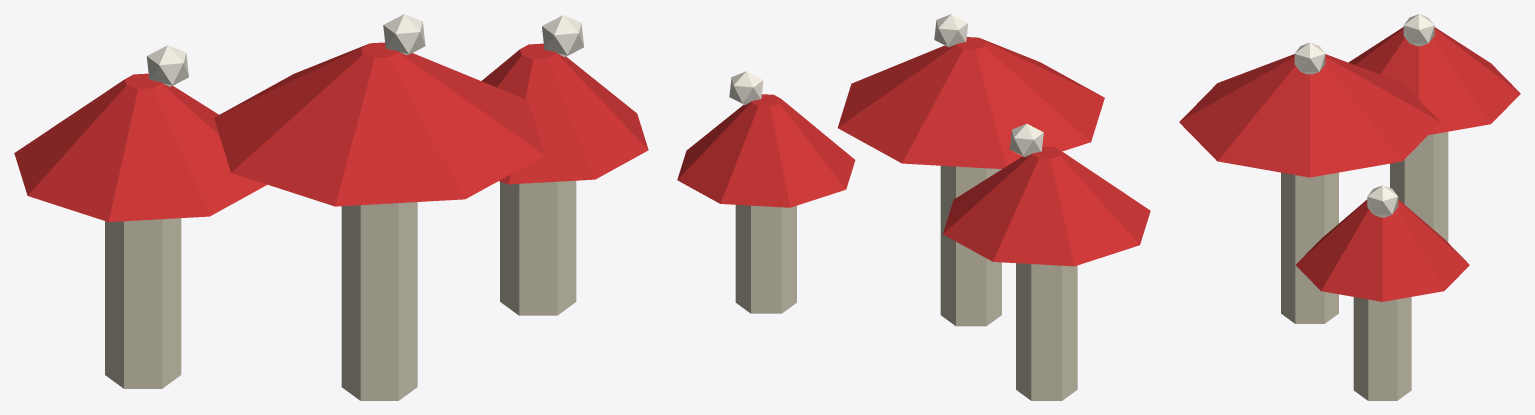
File: mushrooms_swamp.glb
3 views of the same model, side by side, from view 1: azimuth 30°, elevation 25°; view 2: azimuth 150°, elevation 25°; view 3: azimuth 270°, elevation 25° (orthographic). The views are drawn at different scales.
Visible parts, largest first — view 1: mushrooms_swamp; view 2: mushrooms_swamp; view 3: mushrooms_swamp.
Part boxes in pixels (<box>): mushrooms_swamp: <box>14,14,648,400</box>; mushrooms_swamp: <box>677,14,1150,400</box>; mushrooms_swamp: <box>1179,14,1520,400</box>.
Size of the model in its own units: 0.71 by 0.425 by 0.47.
